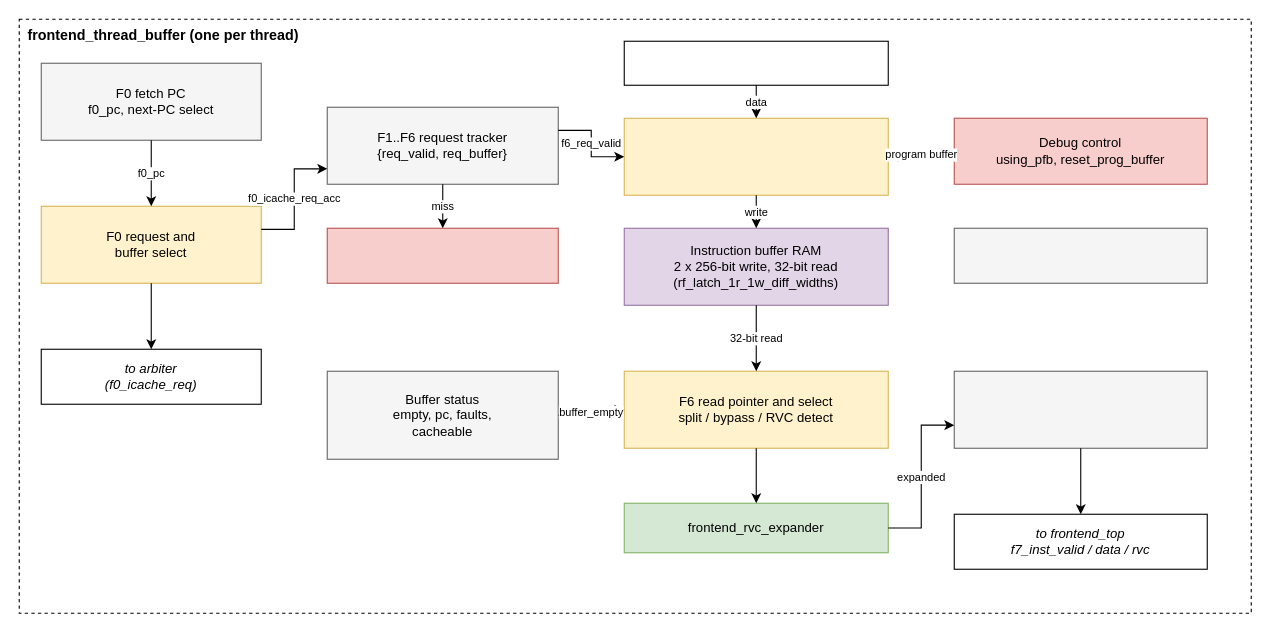
The diagram is 1271 pixels wide and 633 high, and some of its shapes have lost their labels. The shapes that lost their labels are listed below. From the top down, each one's box as (x1, y1, x2, y2) in pixels, then its label:
(623, 40, 888, 85): from I-cache (f6_icache_resp)
(623, 117, 888, 195): F6 write mux I-cache data / debug APB data / EBREAK fill, word enables
(326, 227, 558, 283): Miss pending f0_miss_pending
(953, 227, 1207, 283): Clock gate
(953, 370, 1207, 448): F7 output register fault / replay qualify
